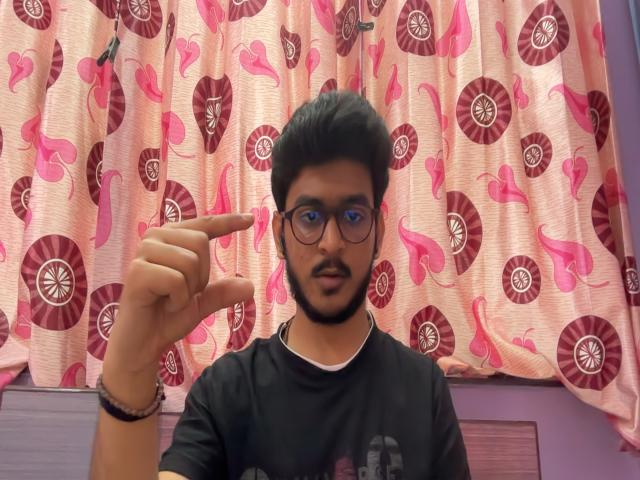No: (102, 202, 264, 382)
